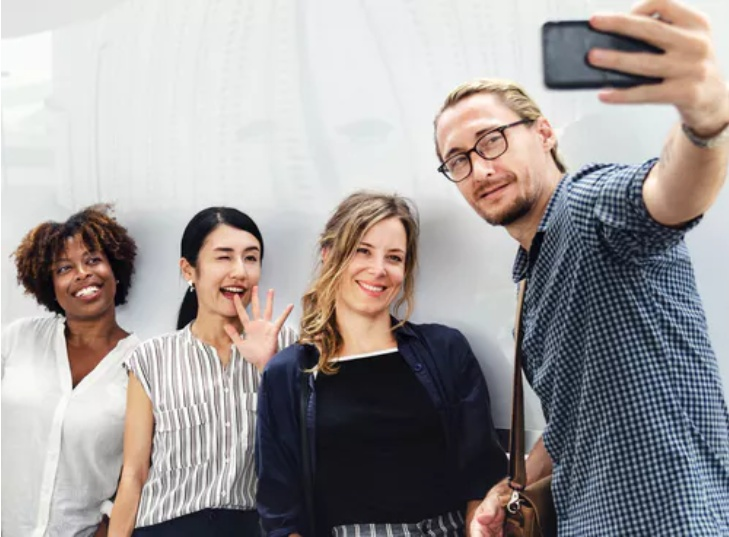face: (436, 97, 536, 221), (339, 216, 405, 315), (196, 226, 261, 319), (51, 234, 117, 320)
